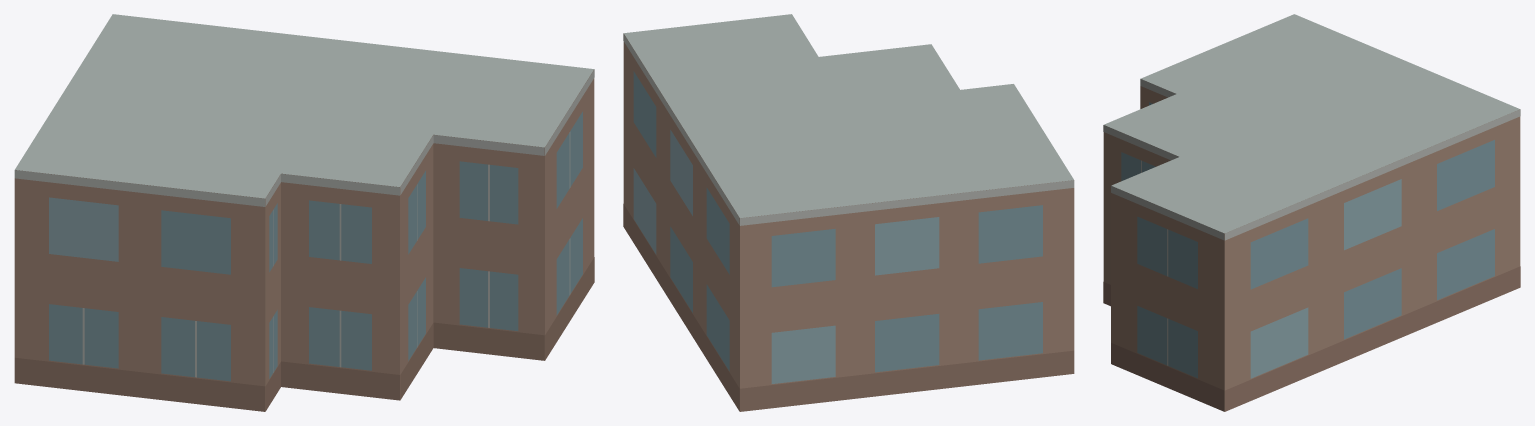
Rendered from survey-upis-32780846.glb.
The picture shows the model from 3 angles, left to right: view 1: azimuth 30°, elevation 25°; view 2: azimuth 150°, elevation 25°; view 3: azimuth 270°, elevation 25°; orthographic projection. The views are drawn at different scales.
Visible parts, largest first — view 1: survey-upis-32780846.tmp; view 2: survey-upis-32780846.tmp; view 3: survey-upis-32780846.tmp.
Boxes of the visible parts, box(x1,y1,x2,y2) form: survey-upis-32780846.tmp: box(14, 14, 594, 411); survey-upis-32780846.tmp: box(623, 14, 1074, 411); survey-upis-32780846.tmp: box(1103, 14, 1520, 411).
Size of the model in its own units: 16.11 by 6.1 by 12.93.
